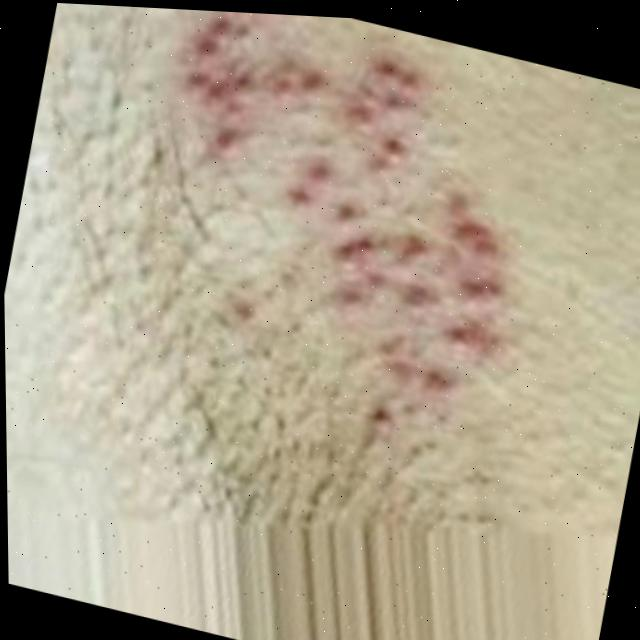Shingles: (150, 8, 552, 410)
